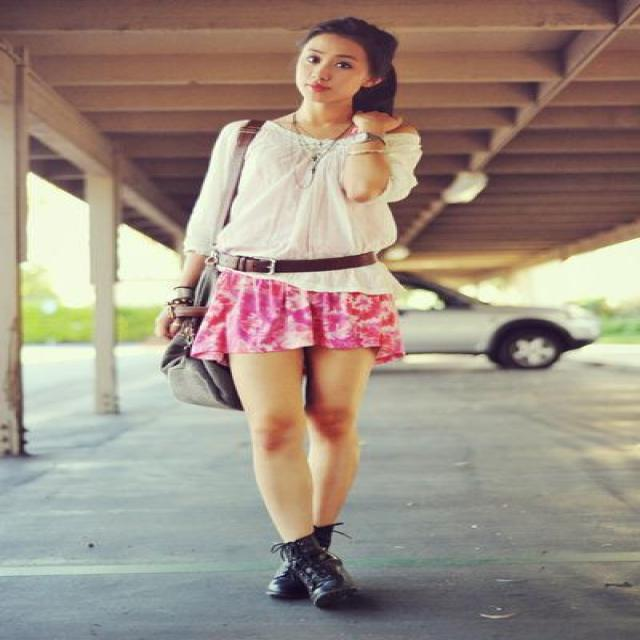bag: (160, 336, 243, 410)
shirt: (176, 116, 421, 306)
shoe: (270, 523, 360, 614)
skirt: (173, 272, 411, 375)
